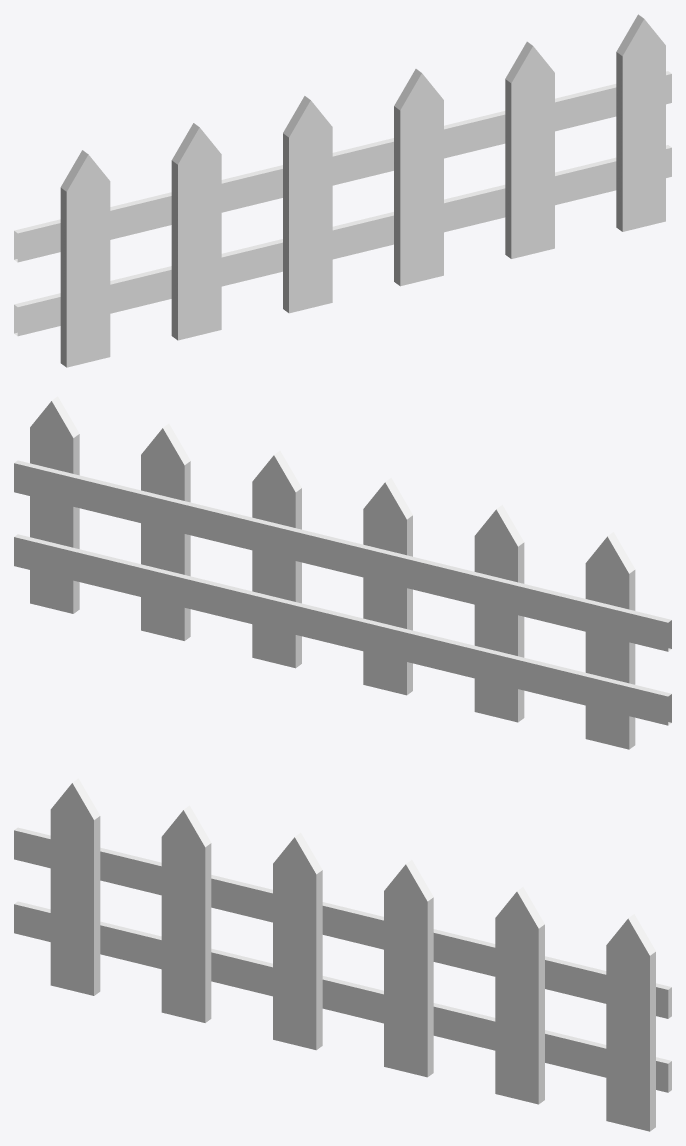
Rendered from Fence Tile_2.fbx.
3 views of the same model, one above another, from view 1: azimuth 30°, elevation 25°; view 2: azimuth 150°, elevation 25°; view 3: azimuth 330°, elevation 25° (orthographic).
Visible parts, largest first — view 1: Fence Tile_2; view 2: Fence Tile_2; view 3: Fence Tile_2.
Part boxes in pixels (x1,y1,x2,y2): Fence Tile_2: (14, 14, 671, 367); Fence Tile_2: (14, 396, 671, 749); Fence Tile_2: (14, 778, 671, 1131).
Bounding box in the file's own units: 403 × 122 × 10.68.
